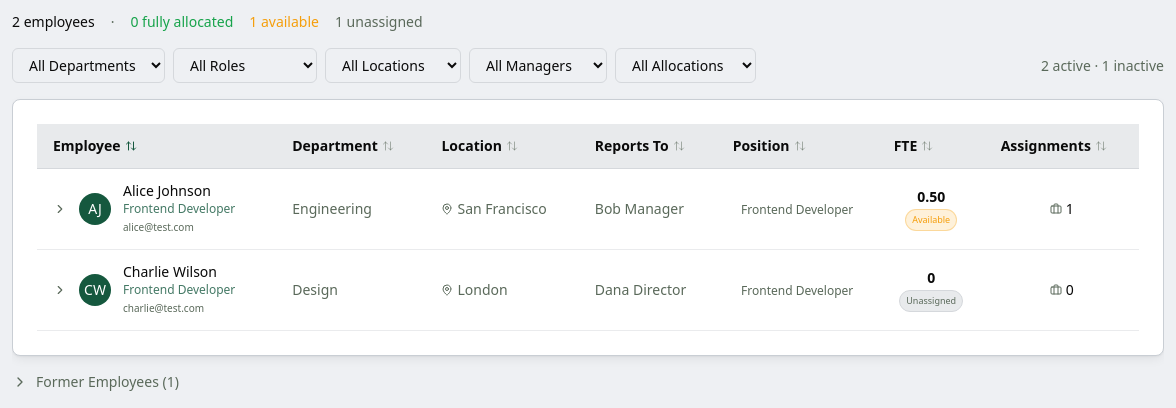
EmployeeList › filters by allocation status
The image size is (1176, 408).
Select "Unassigned" in the 5th dropdown showing "All Allocations". click: (686, 66)
box: [615,48,756,83]
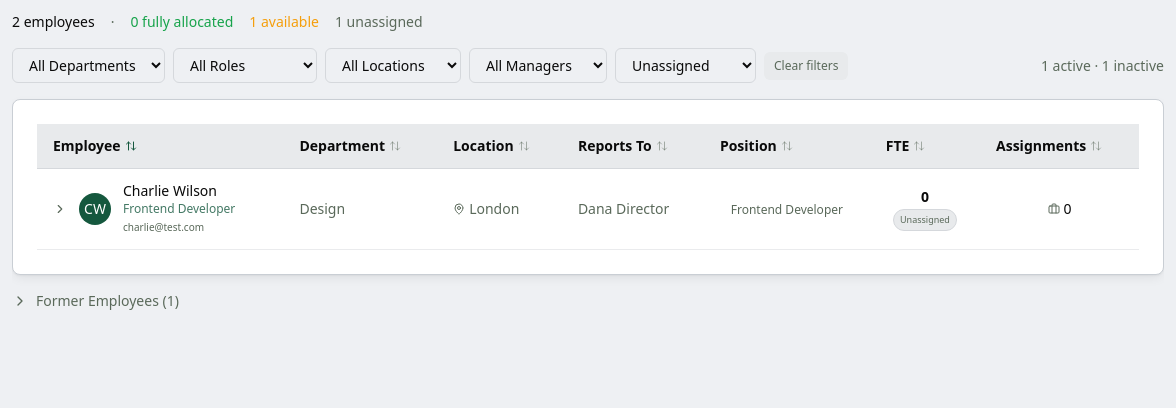
Expected: the link "Charlie Wilson" is shown, [123,181,217,200]
Now the link "Alice Johnson" is gone
